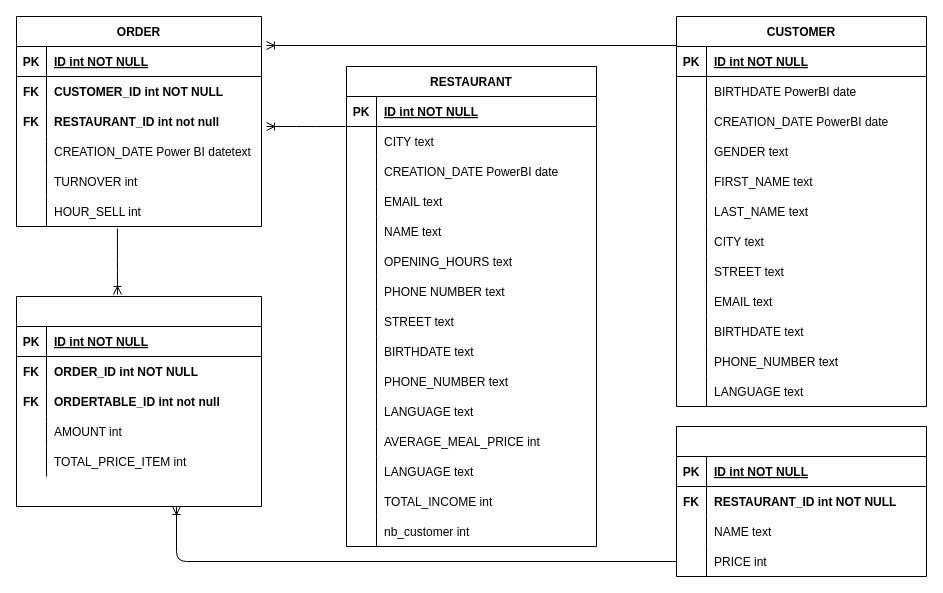
The diagram is 943 pixels wide and 593 high, and some of its shapes have lost their labels. Here are the shapes that lost their labels. From the top down, the box of each, then its label:
(16, 296, 262, 506): ORDER_ITEM
(676, 426, 926, 576): ORDERTABLES
